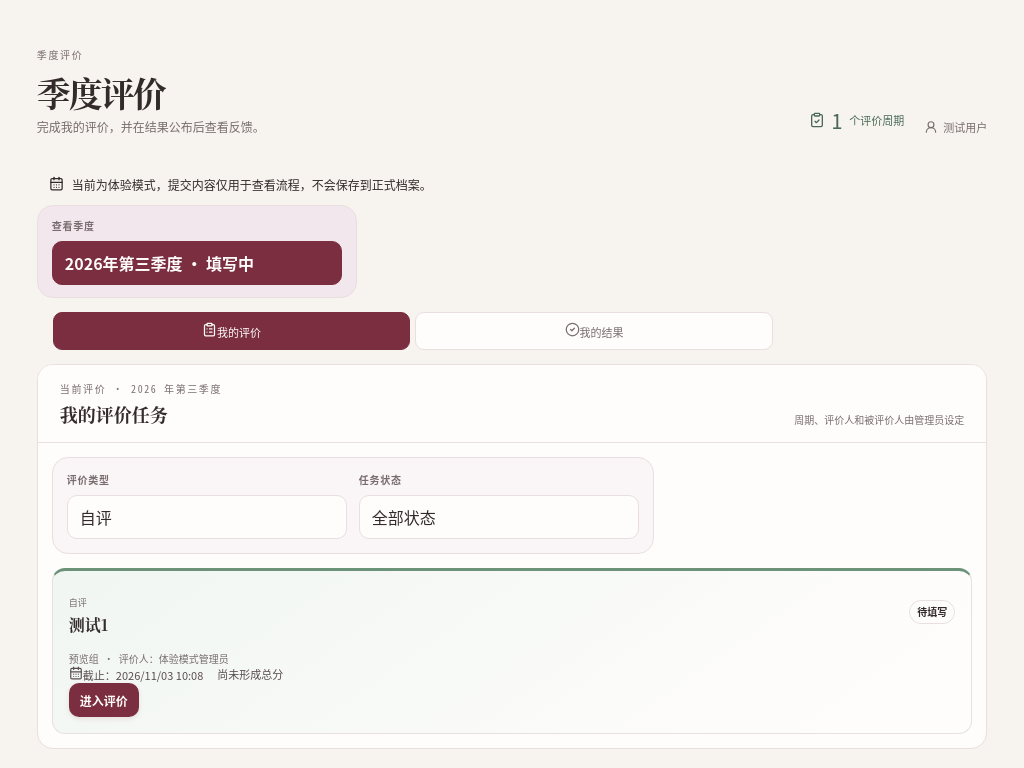
Test: QuarterlyAssessmentsPage › shows this account's submitted results
Click the button "我的结果" at (594, 331), box [415,312,773,350]
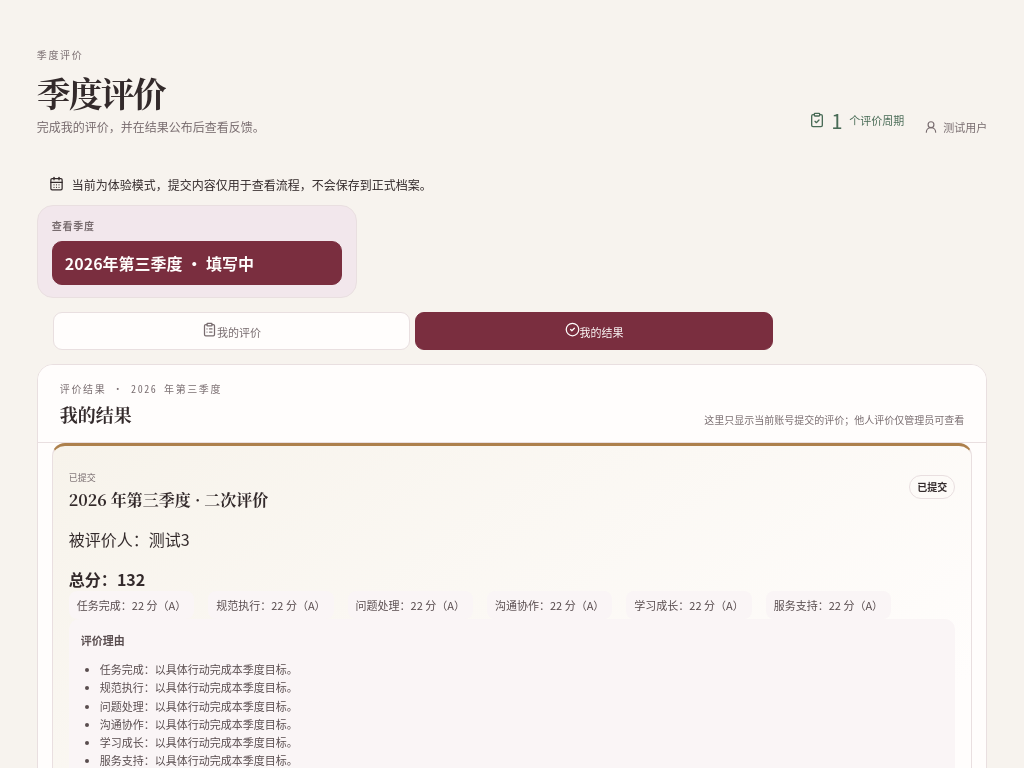
Expected: the text "被评价人：测试3" is shown, [69,527,190,551]
Expected: the text "总分：132" is shown, [69,567,145,591]
